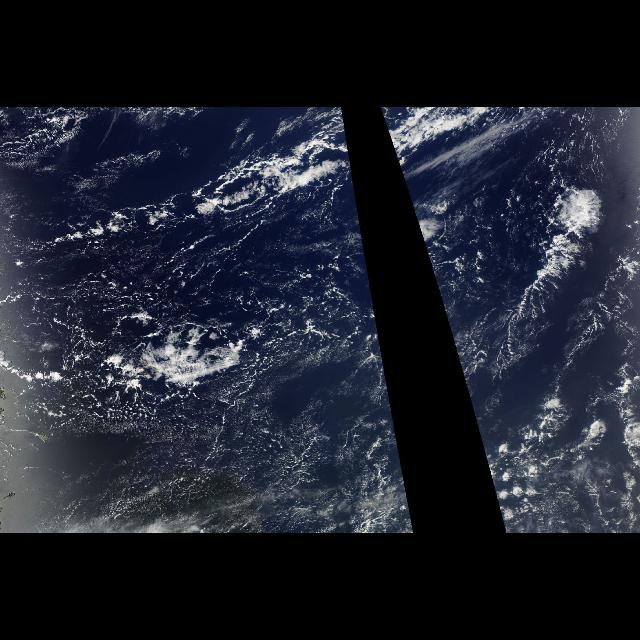Fish: (478, 146, 608, 392)
Gravel: (3, 112, 417, 532), (380, 112, 636, 532)
Sugar: (4, 377, 416, 533)
